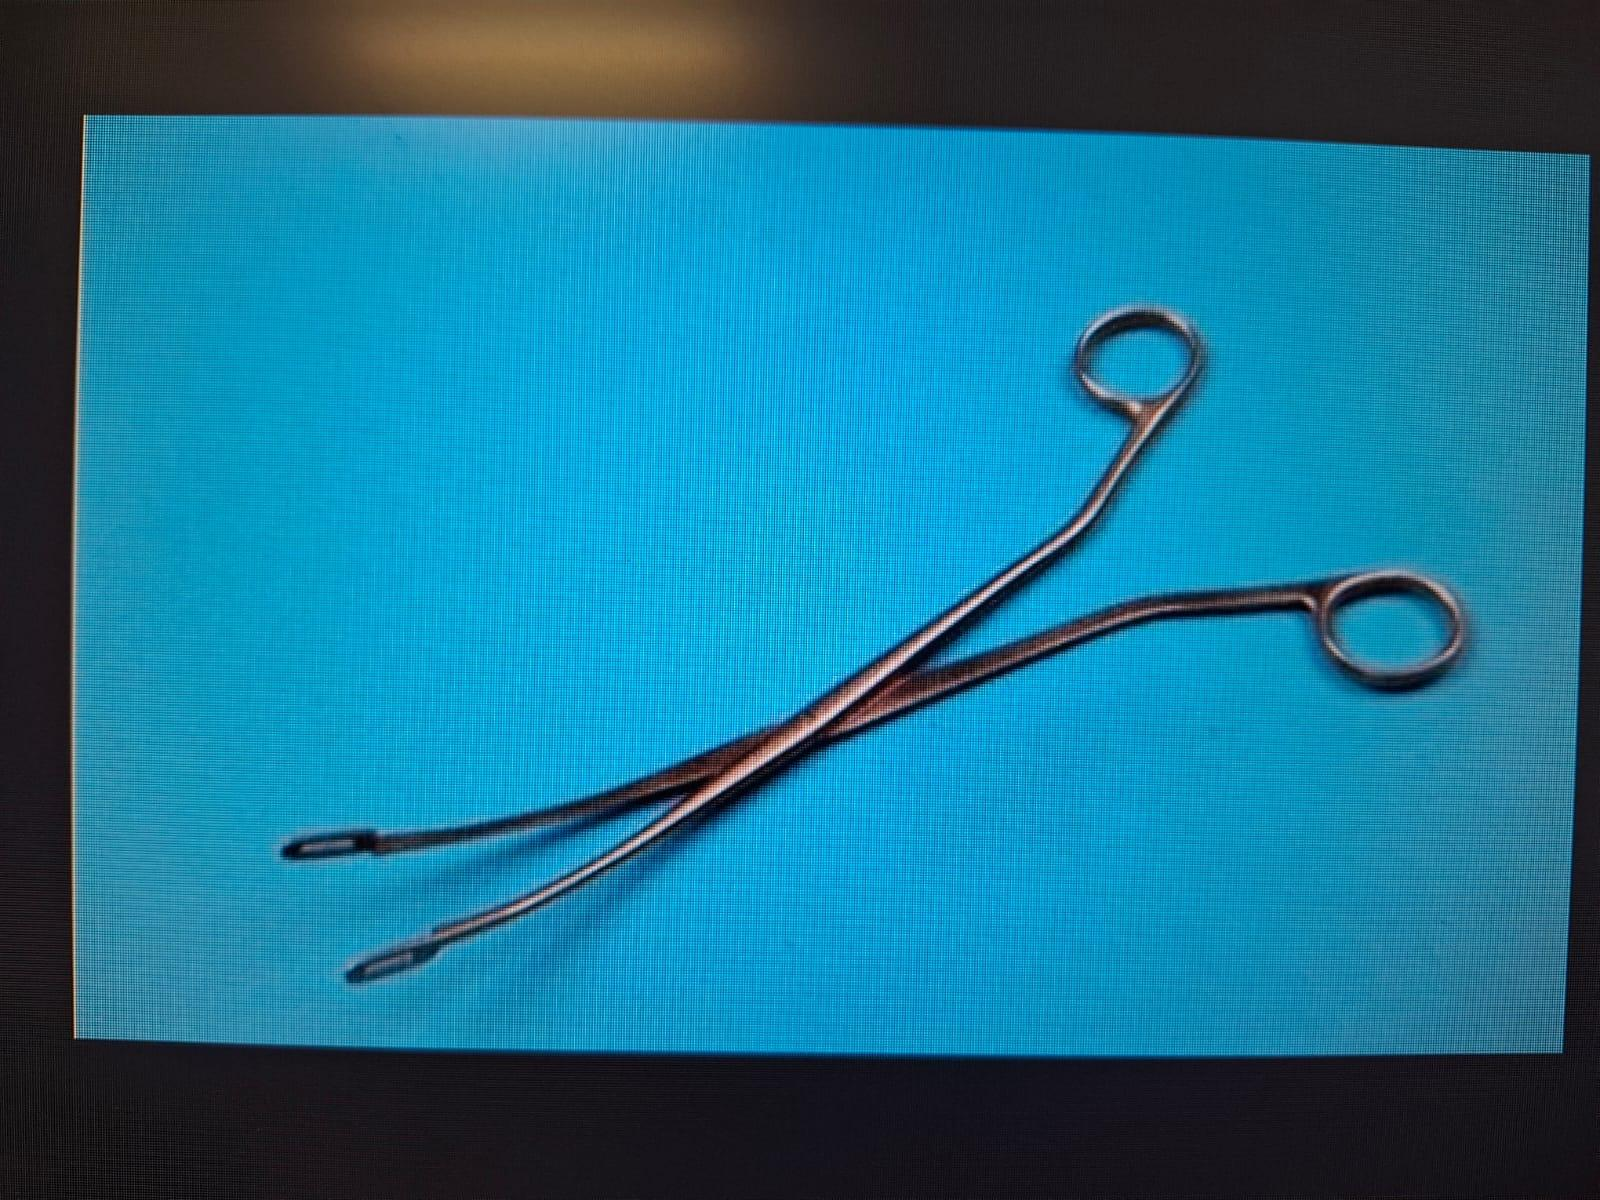Desjardin Forceps: (266, 287, 1490, 1005)
